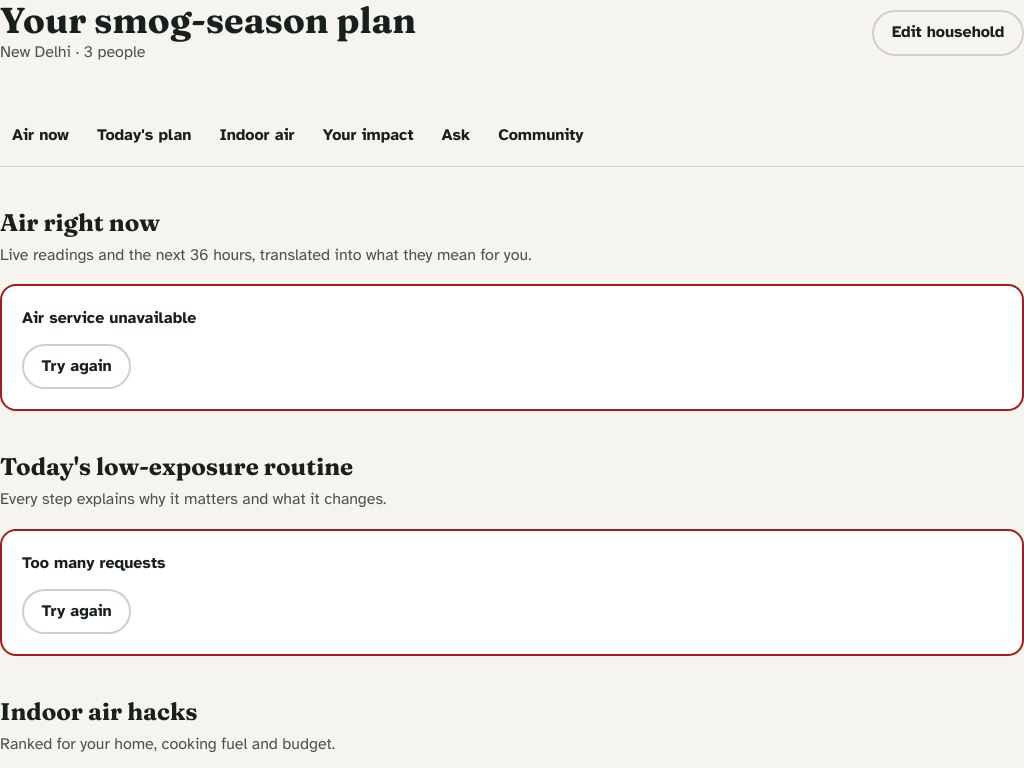
Dashboard › shows errors with a working retry
Expected: the text "Air service unavailable" is shown, [22, 308, 196, 328]
Expected: the text "Too many requests" is shown, [22, 553, 166, 573]
Click the button "Try again" below "Air service unavailable".
click(77, 367)  # box [22, 344, 131, 389]
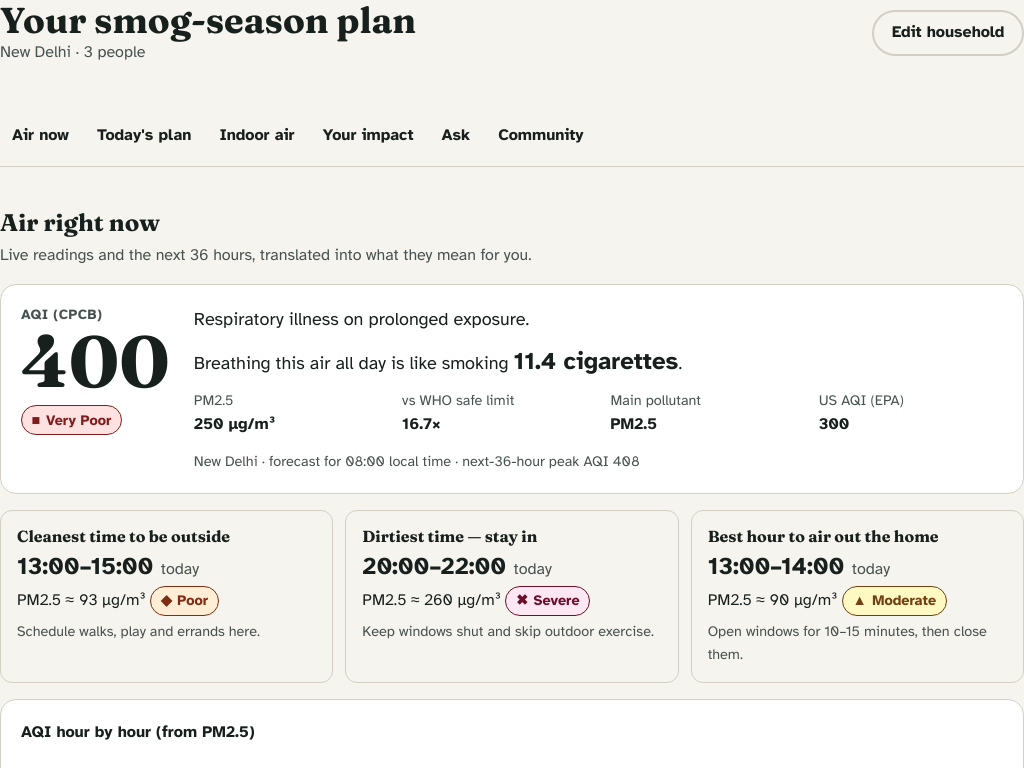
Now the text "AQI (CPCB)" is shown, box [21, 306, 102, 323]
